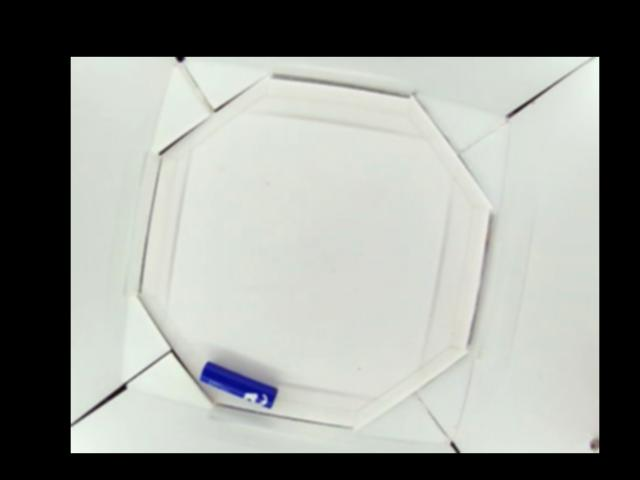Battery: (199, 359, 277, 408)
